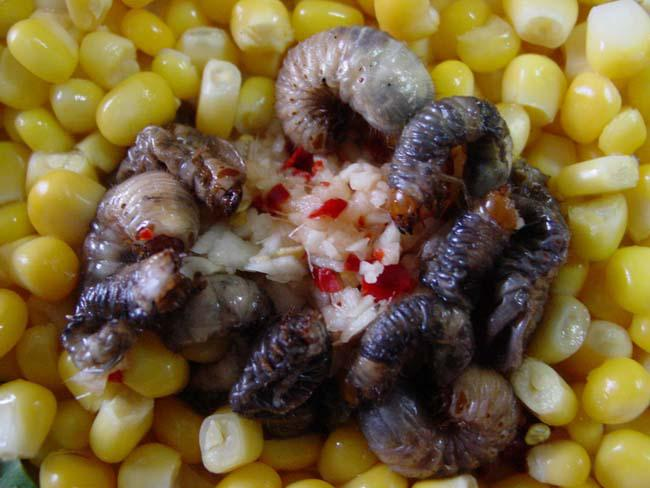grub: (330, 294, 476, 409)
